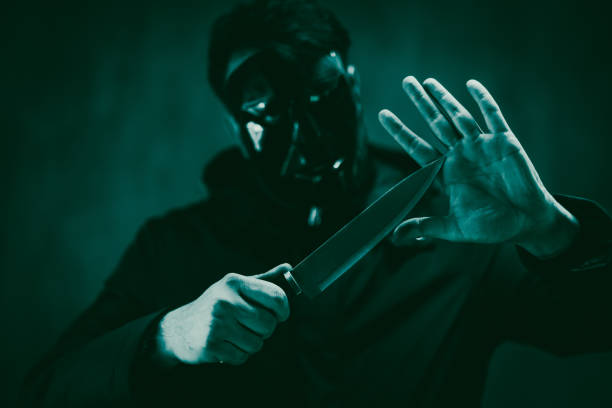knife: (266, 152, 450, 301)
